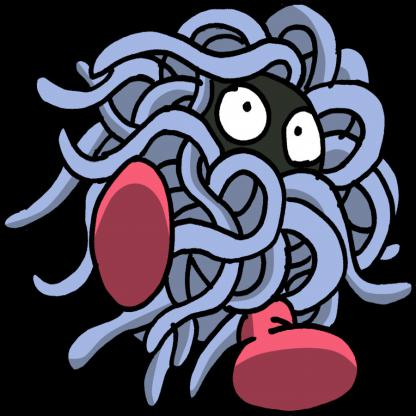Tangela: (19, 13, 416, 400)
